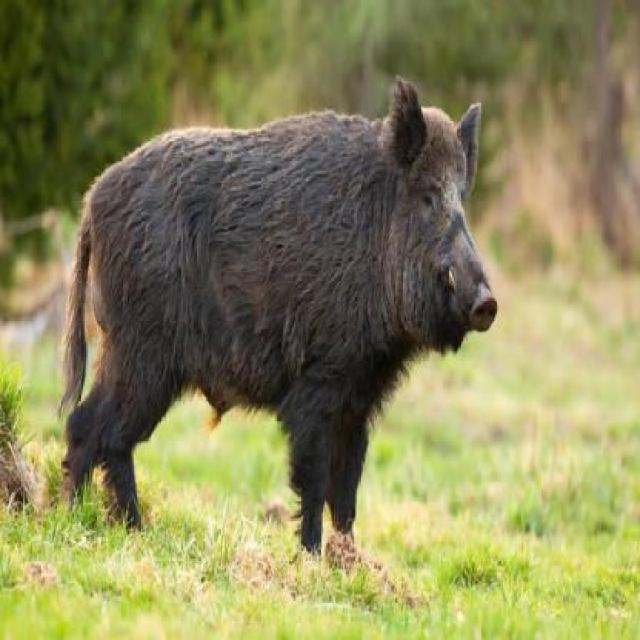wildboar: (56, 72, 501, 572)
